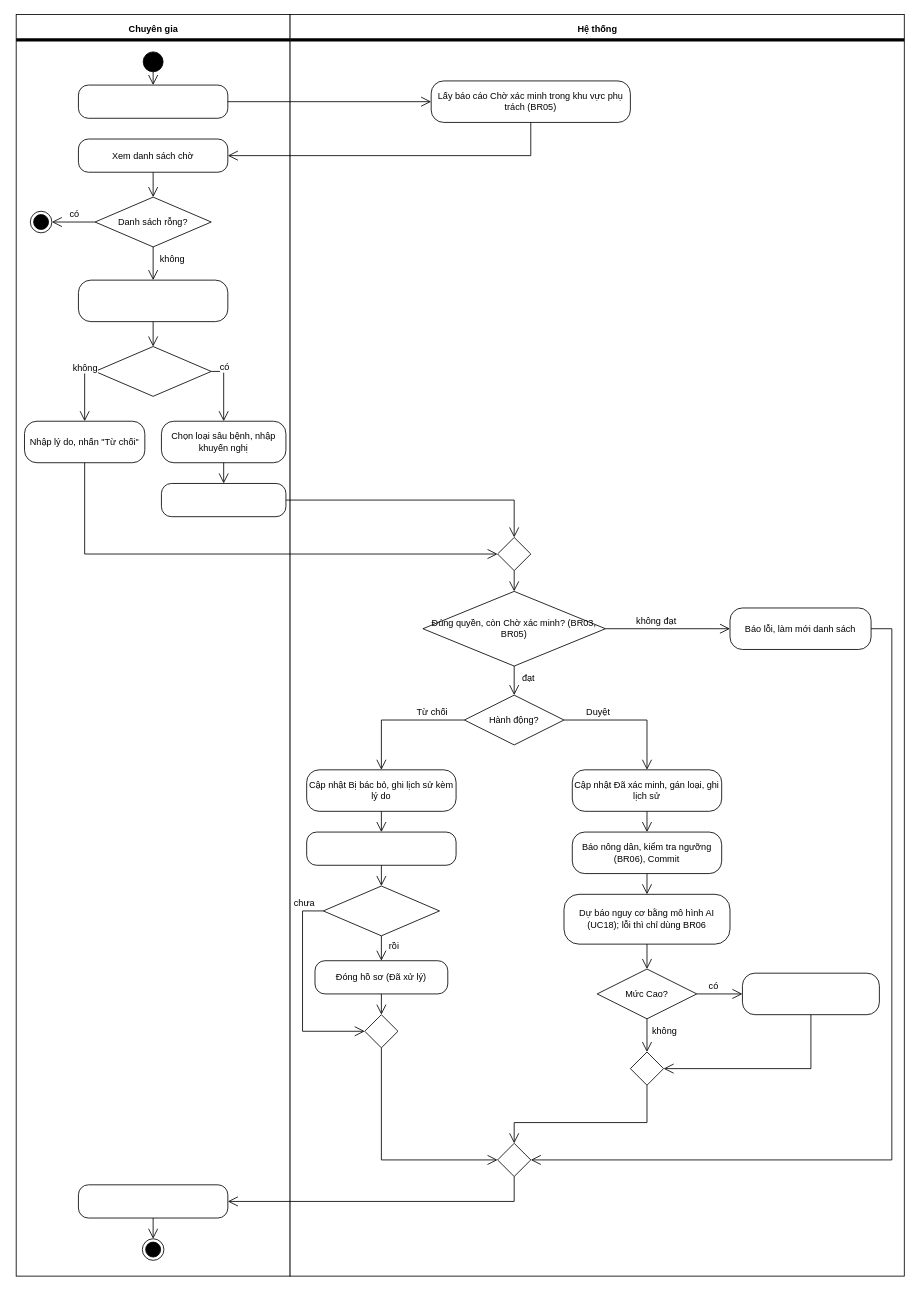
This 920x1291 diagram has some shape labels left out. Each missing label, with the centre of its shape:
Báo cáo hợp lệ?: (152,371)
Chọn báo cáo, xem ảnh, mô tả, tọa độ: (153,300)
Làm mới danh sách, xem kết quả: (153,1201)
Mở trang Xác minh báo cáo: (153,101)
Nhấn "Duyệt": (223,500)
Tạo cảnh báo, báo cho khu vực (BR08): (810,993)
Tạo thông báo cho nông dân: (381,848)
Đã gửi lại 1 lần?: (380,910)
